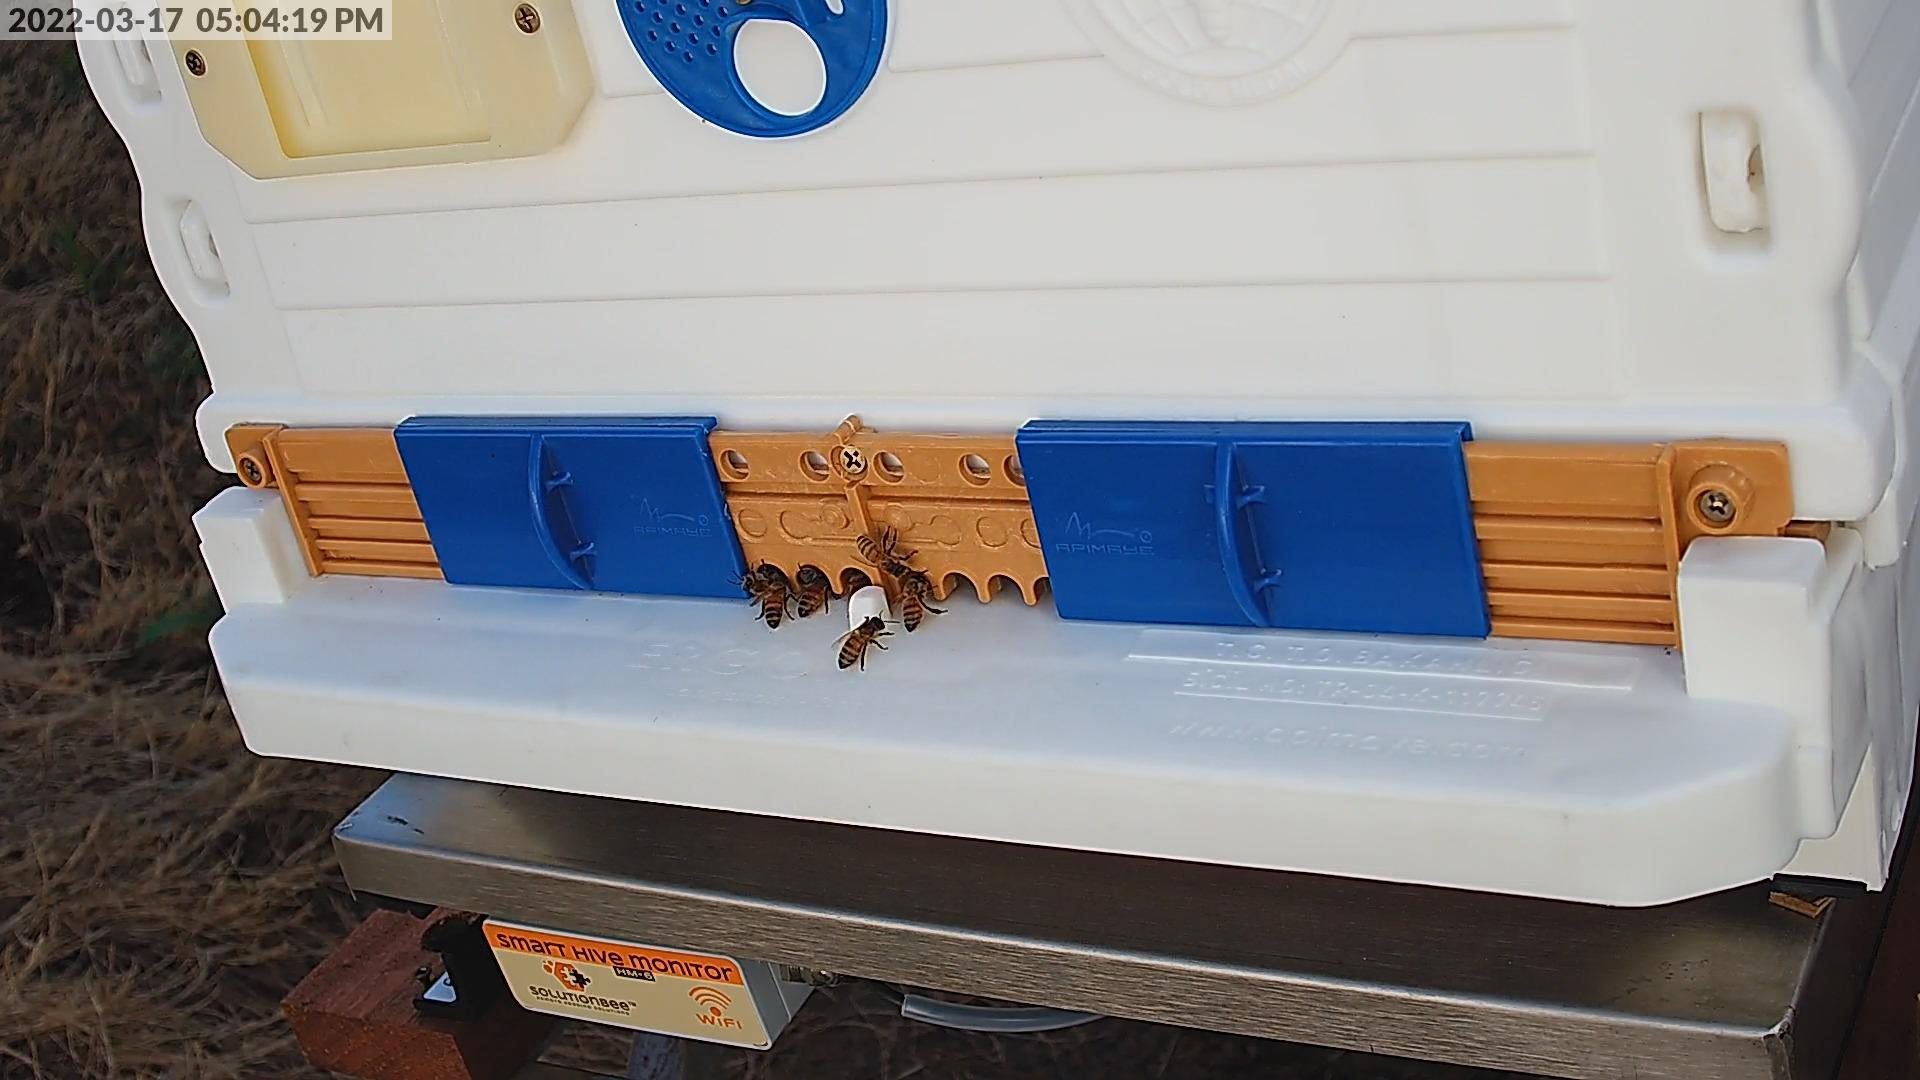bee: (843, 615, 889, 667), (856, 535, 903, 575), (902, 575, 926, 630), (740, 570, 786, 597), (798, 582, 829, 617), (764, 582, 787, 629), (796, 567, 823, 584)
